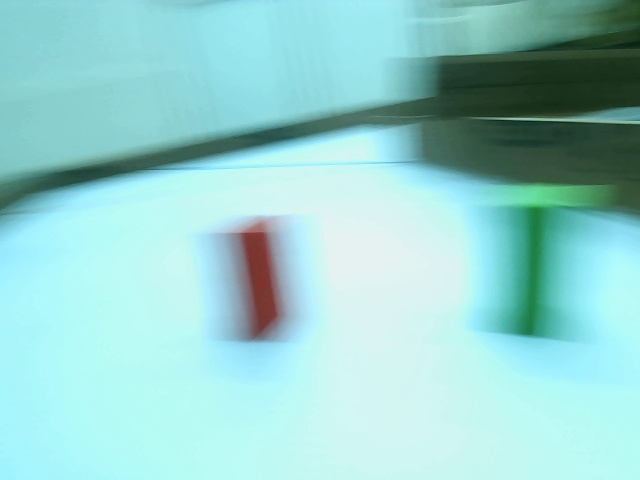red: (238, 226, 287, 333)
